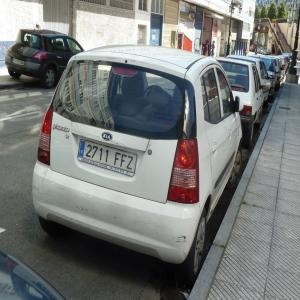Vehicle-registration-plate: (74, 139, 139, 186), (12, 59, 26, 66)
